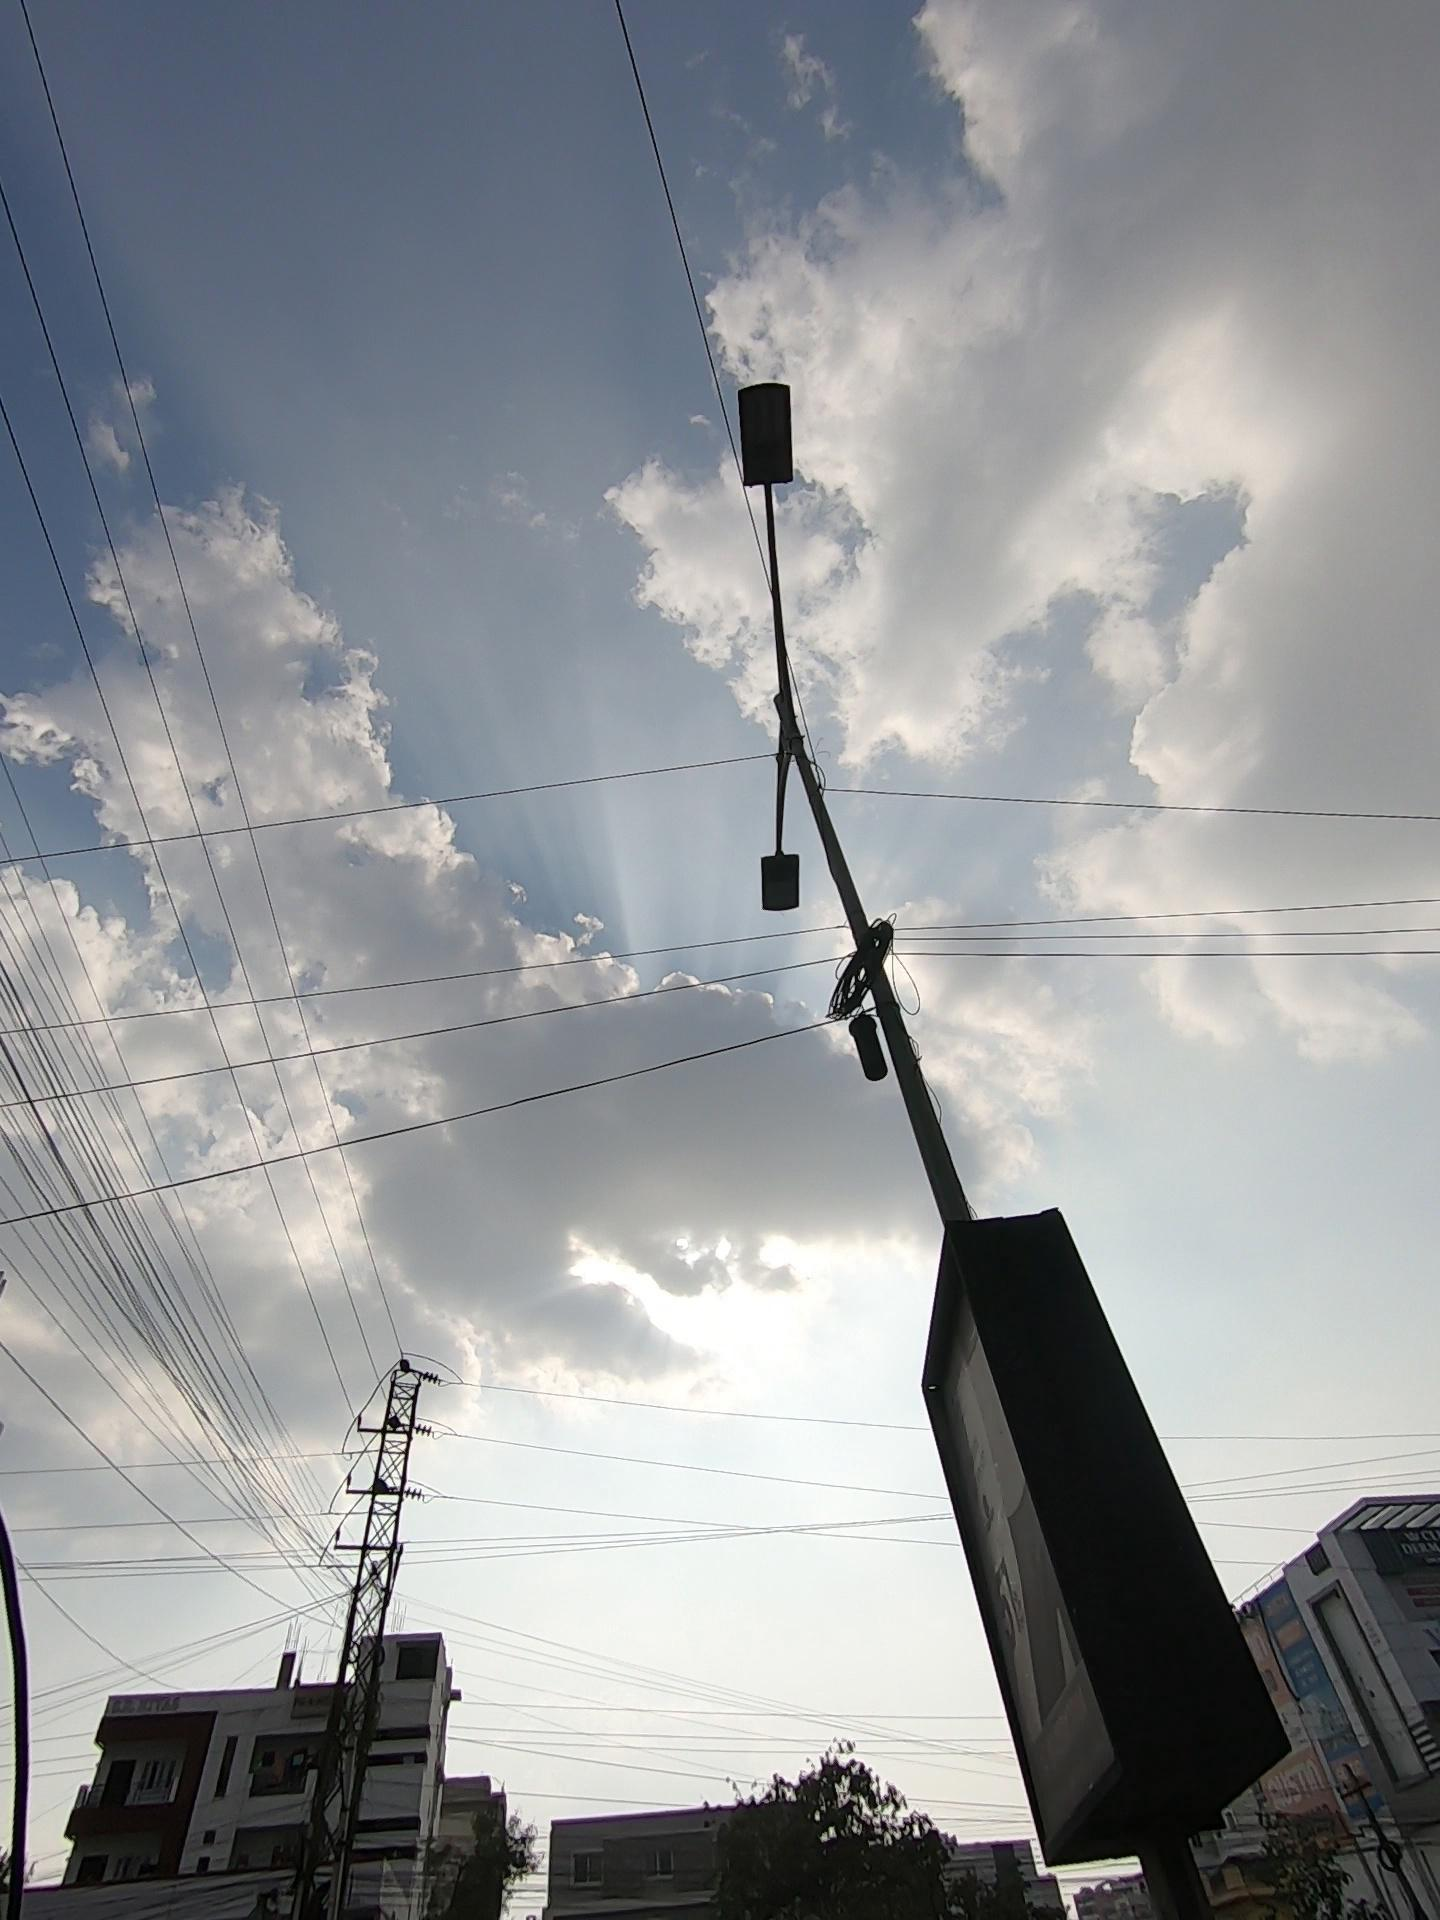off: (601, 370, 976, 955)
